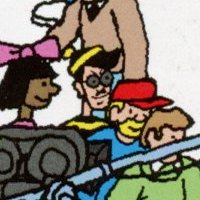odlaw: (78, 48, 112, 110)
